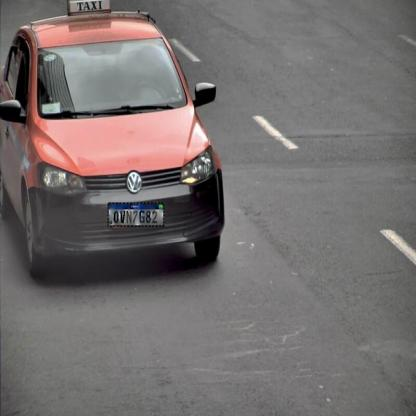PlacaM: (108, 202, 164, 227)
